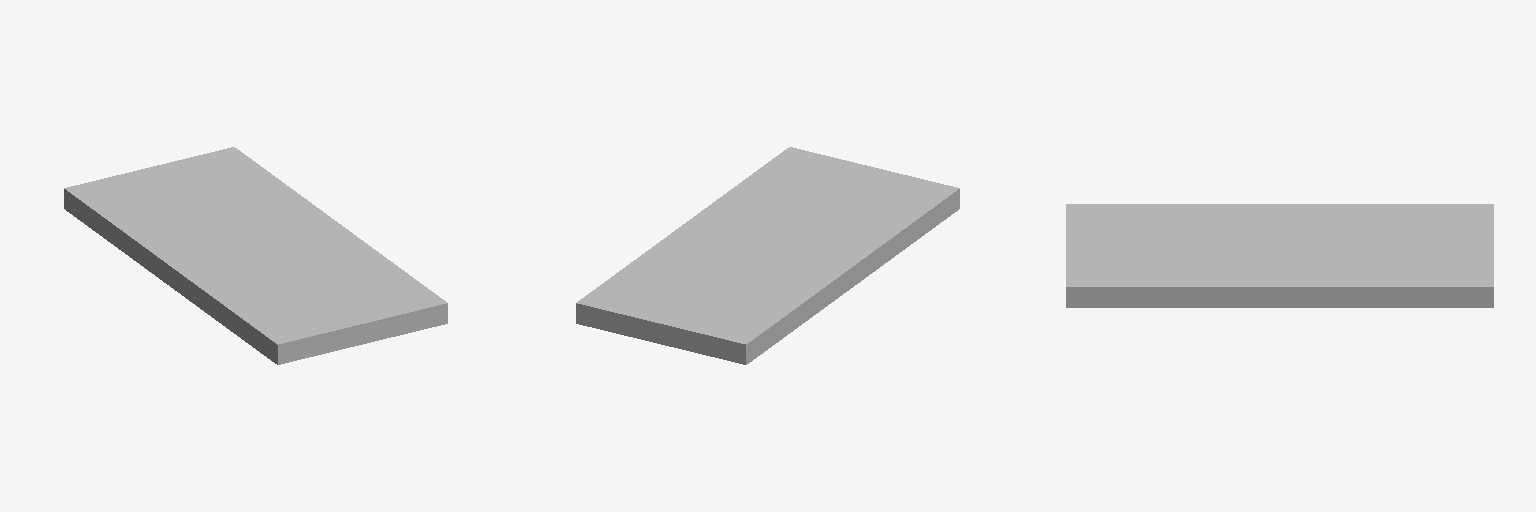
File: Ceiling Light V2.obj
3 views of the same model, side by side, from view 1: azimuth 30°, elevation 25°; view 2: azimuth 150°, elevation 25°; view 3: azimuth 270°, elevation 25° (orthographic).
Visible parts, largest first — view 1: Solid1; view 2: Solid1; view 3: Solid1.
Boxes of the visible parts, x1,y1,x2,y2 form: Solid1: [64, 147, 447, 364]; Solid1: [576, 147, 959, 364]; Solid1: [1066, 204, 1493, 307].
Bounding box in the file's own units: 55.09 × 6.35 × 120.